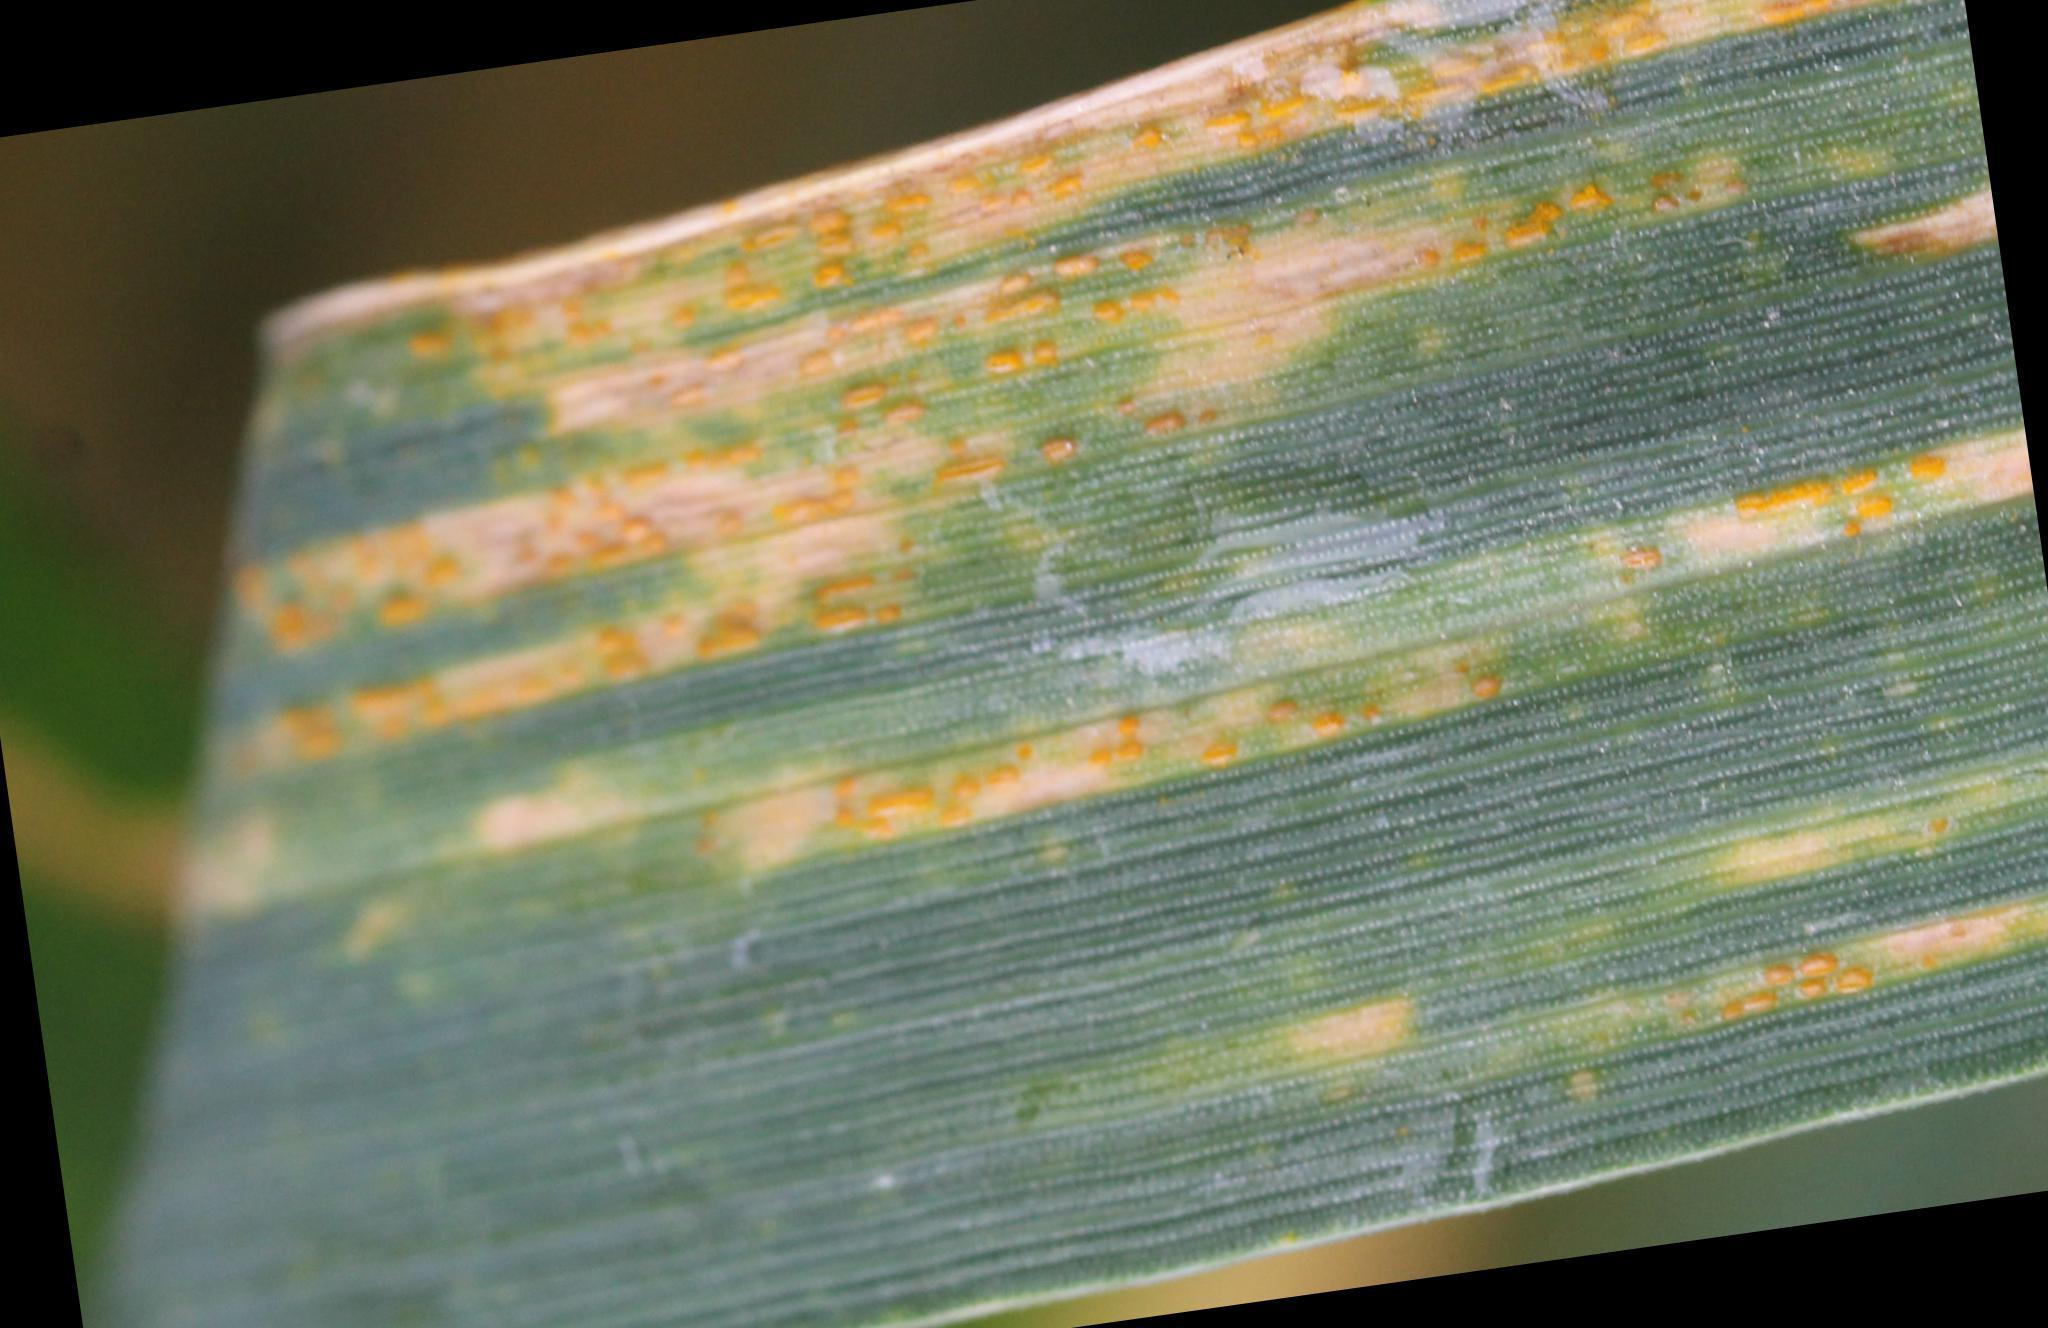Wheat: (399, 282, 1566, 865), (1233, 25, 1818, 266), (1633, 877, 1997, 1080), (1739, 361, 2005, 636)
